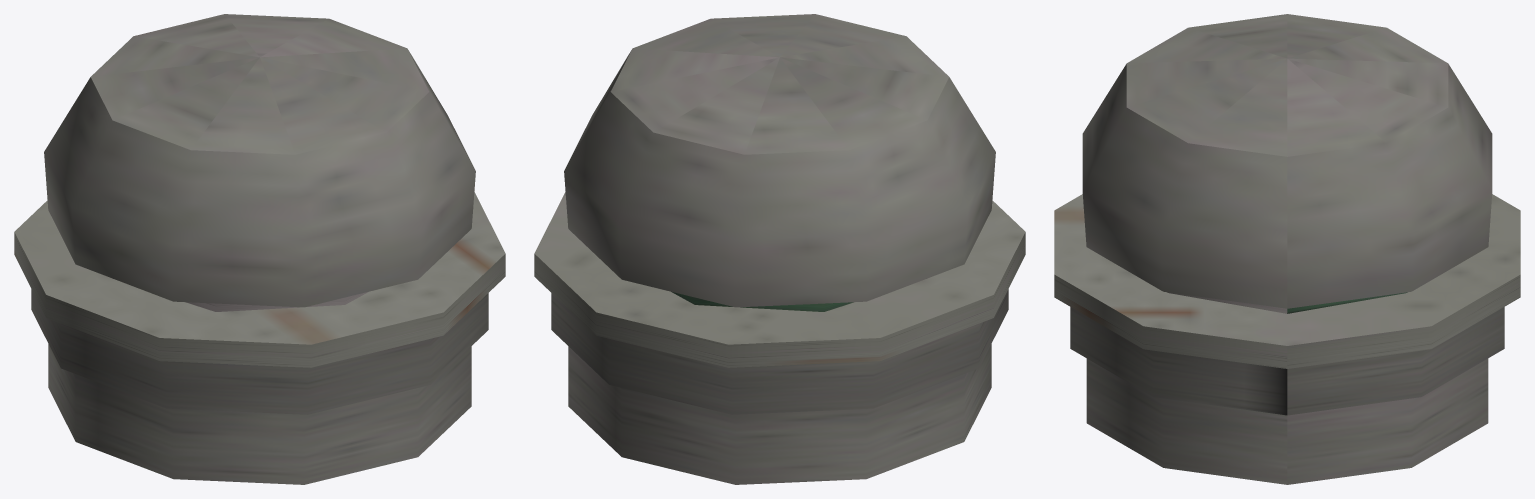
Rendered from burger.fbx.
3 renders of one model, left to right at view 1: azimuth 30°, elevation 25°; view 2: azimuth 150°, elevation 25°; view 3: azimuth 270°, elevation 25°, orthographic.
Visible parts, largest first — view 1: burger; view 2: burger; view 3: burger.
Boxes of the visible parts, x1,y1,x2,y2 form: burger: [14, 14, 505, 484]; burger: [534, 14, 1025, 484]; burger: [1054, 14, 1520, 484].
Bounding box in the file's own units: 0.116 × 0.088 × 0.1103.
